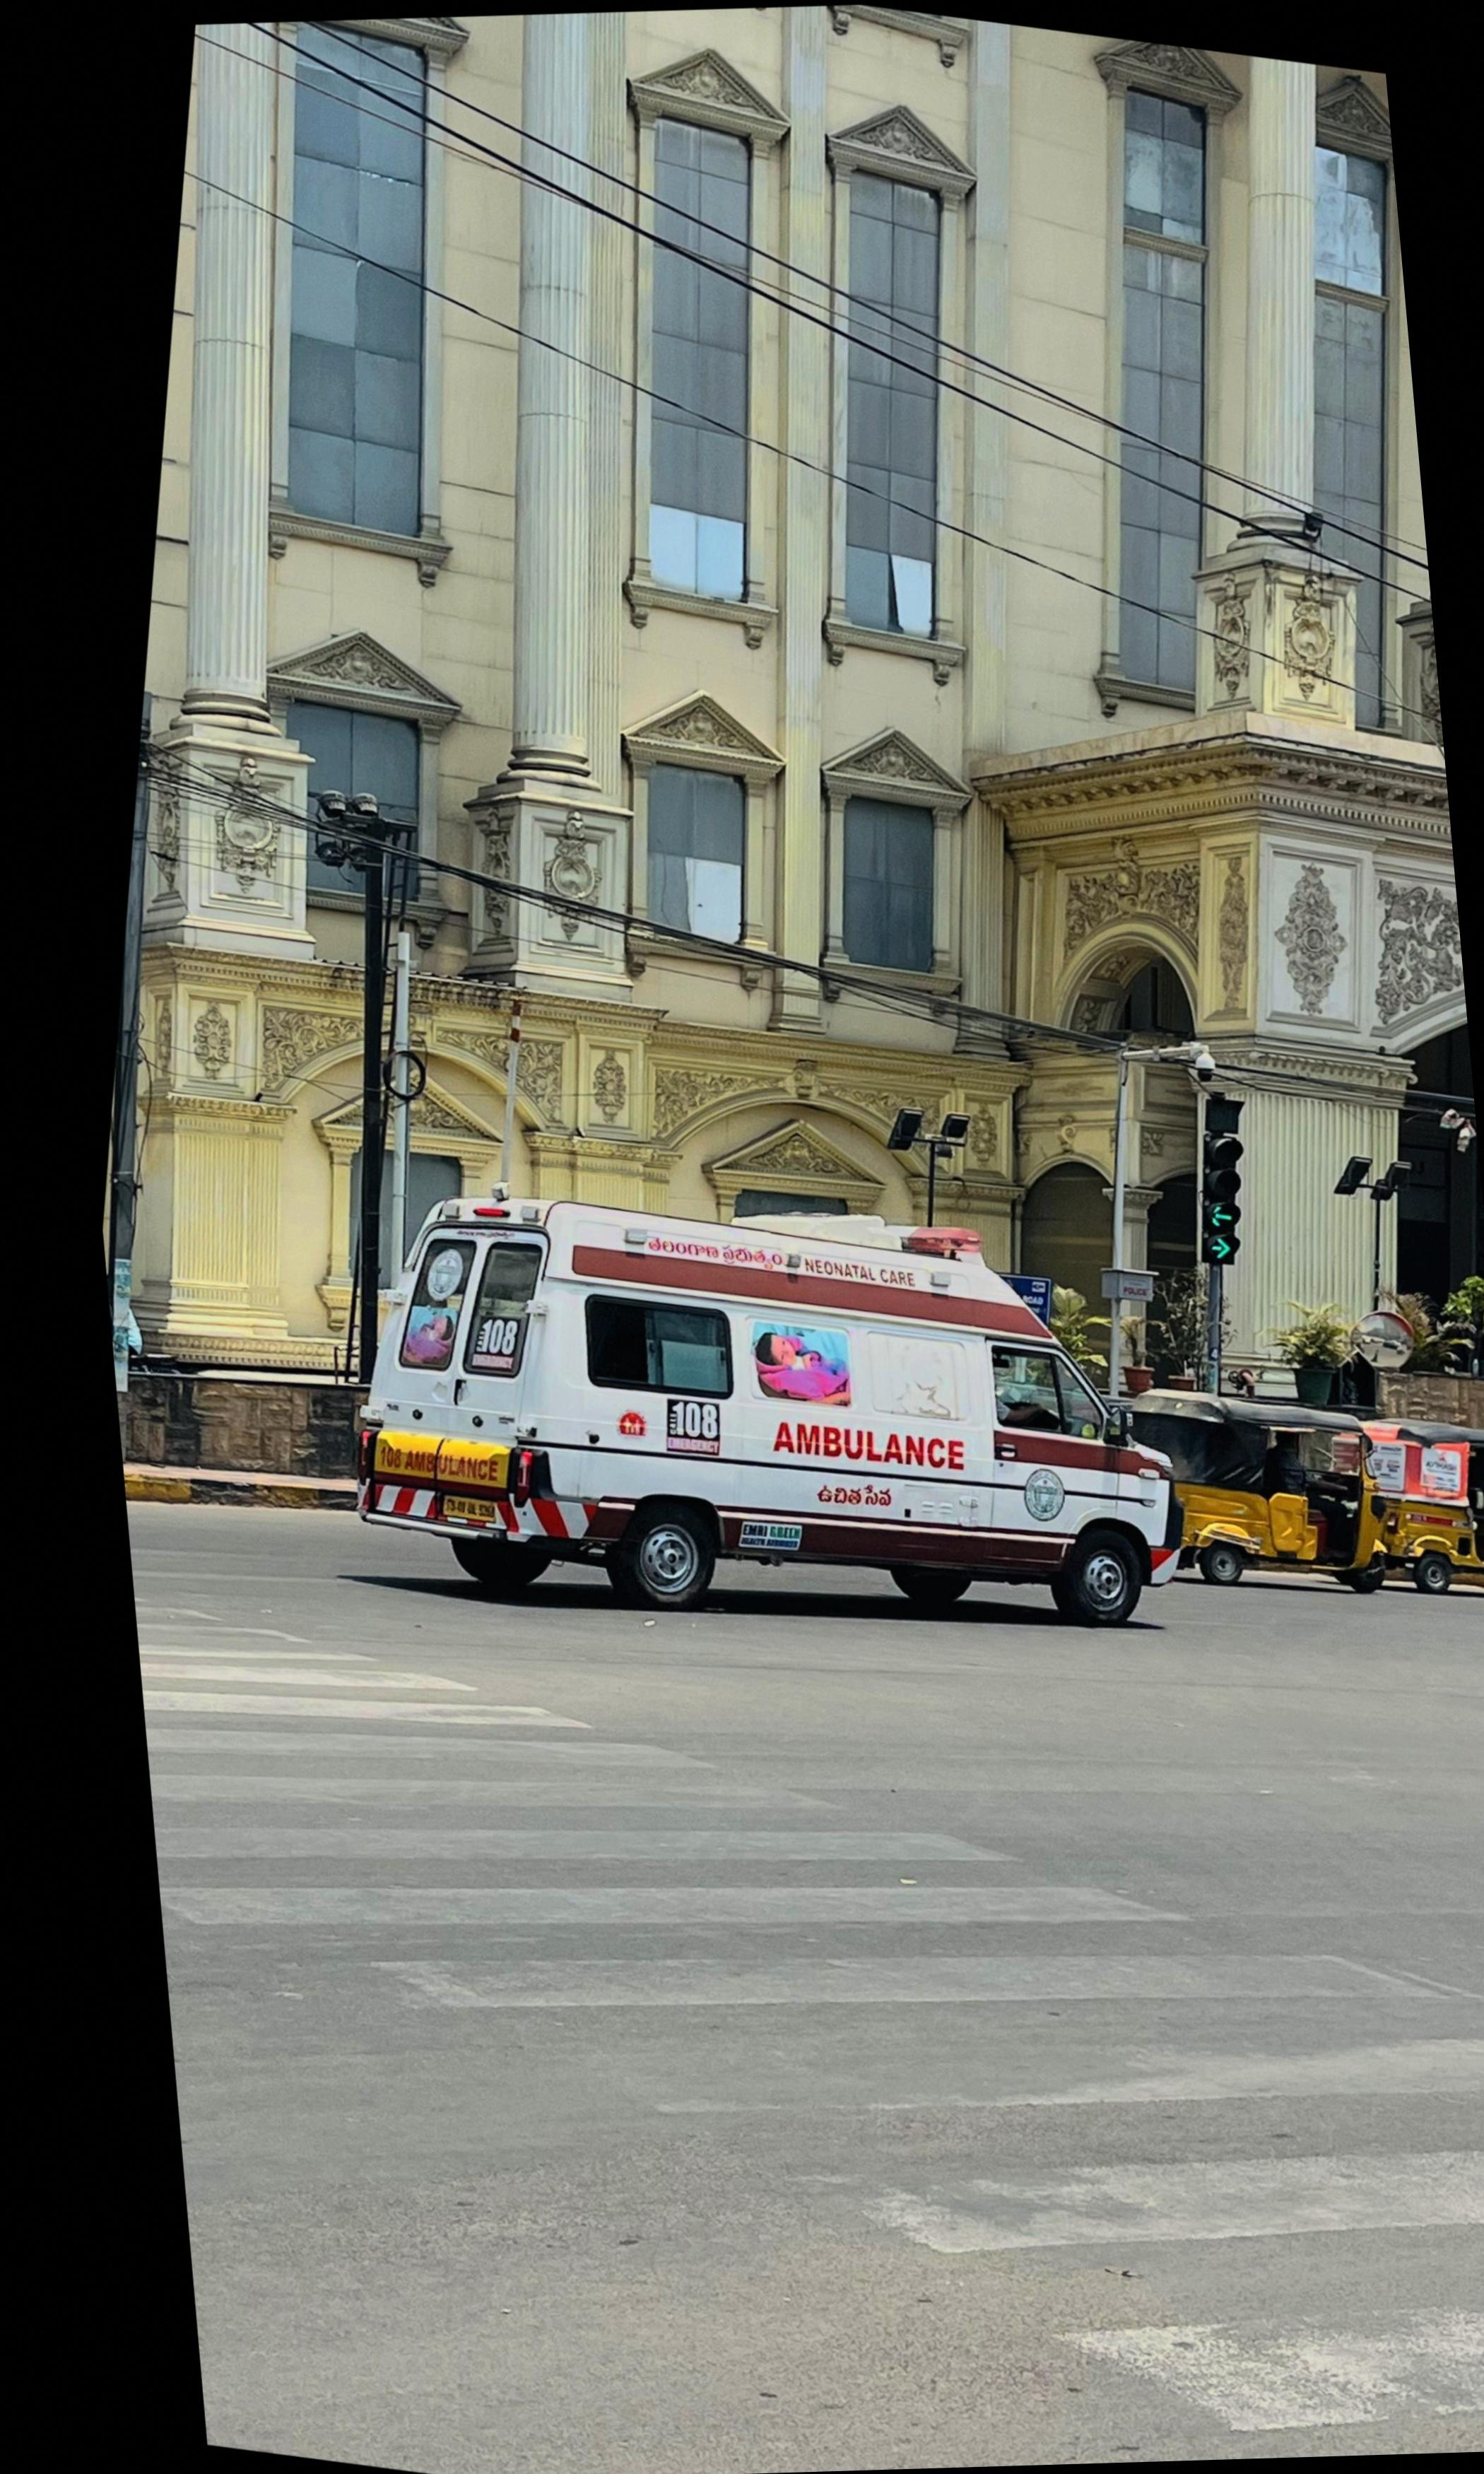ambulance: (360, 1202, 1178, 1633)
